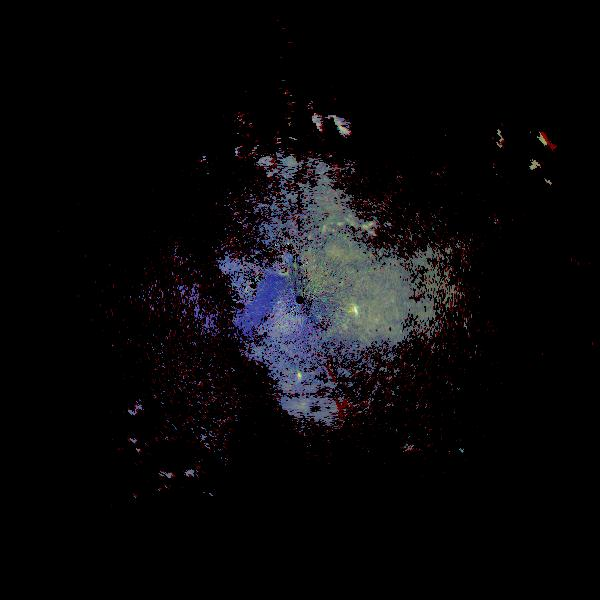roost: (350, 306, 359, 315), (295, 372, 304, 381)
